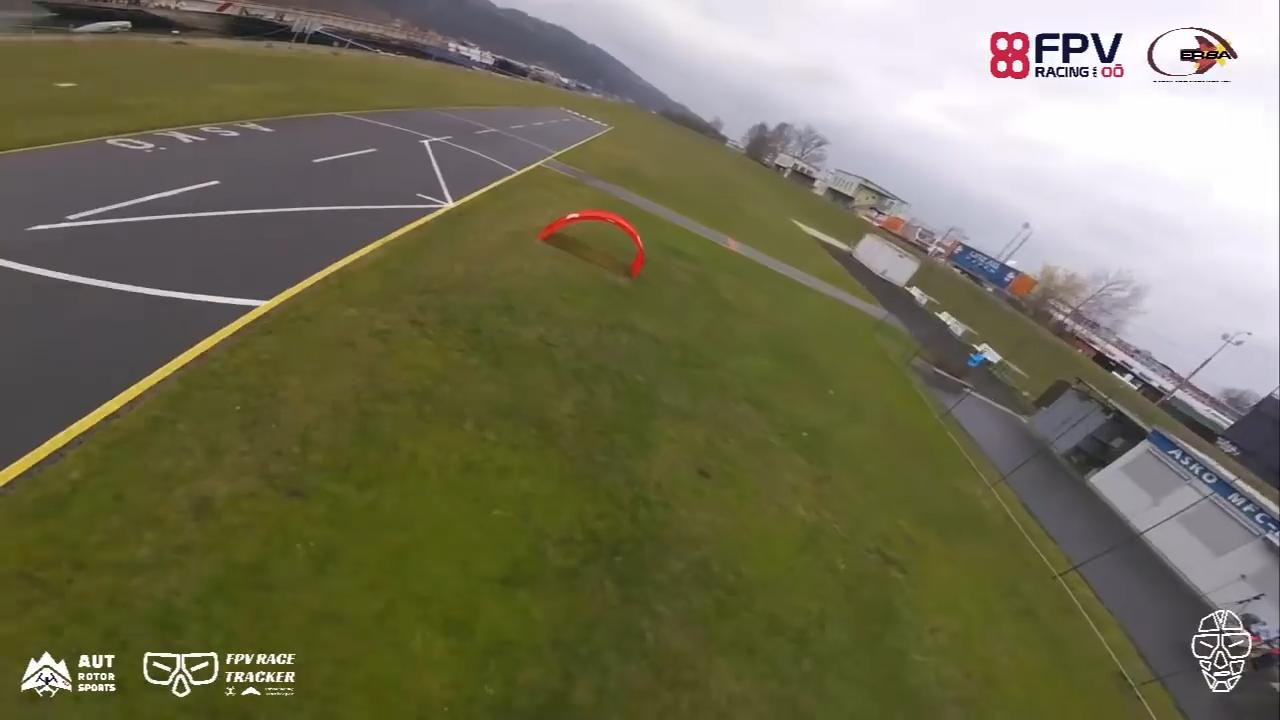gate: (539, 205, 644, 279)
